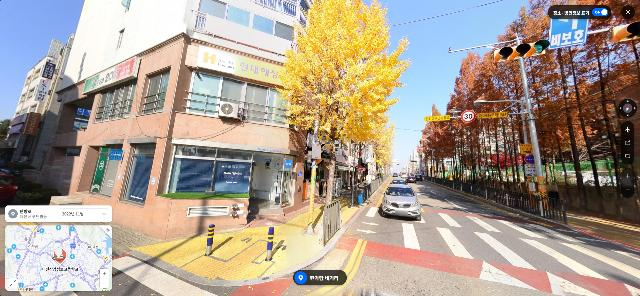ginkgo: (275, 0, 411, 213), (346, 118, 397, 202), (363, 139, 395, 189)
other: (415, 1, 640, 219)
